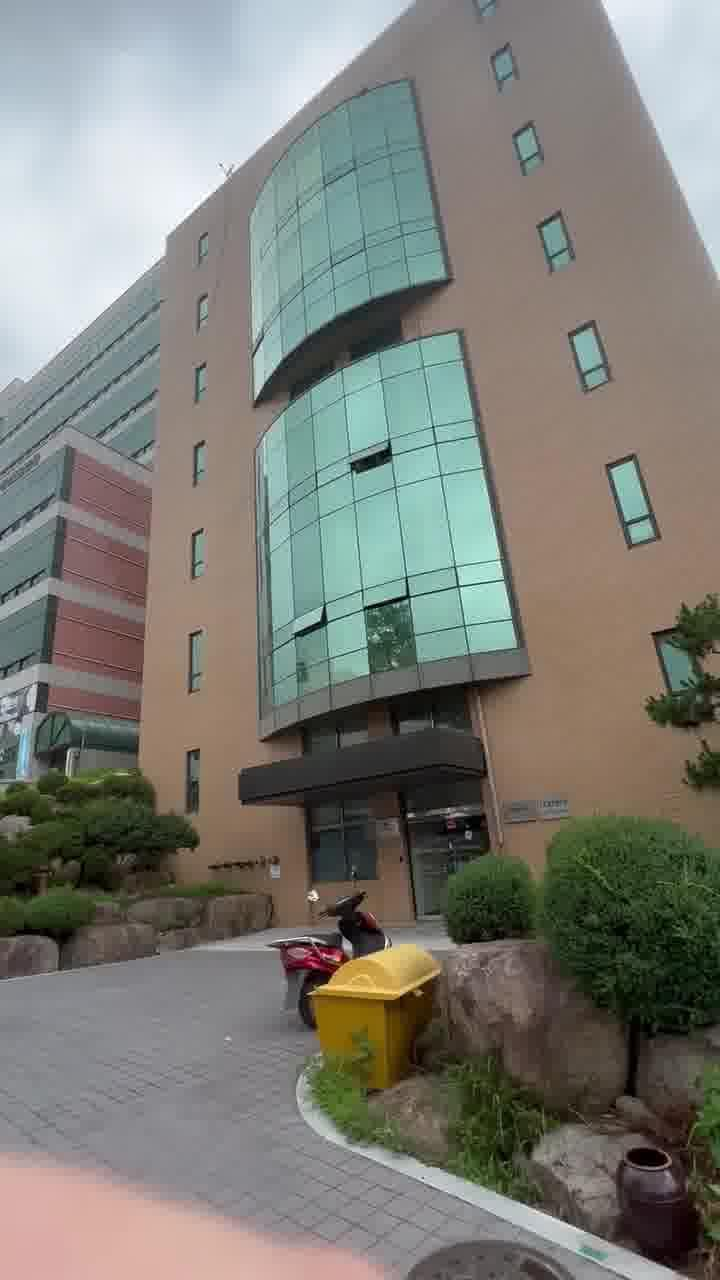building: (156, 142, 664, 818)
